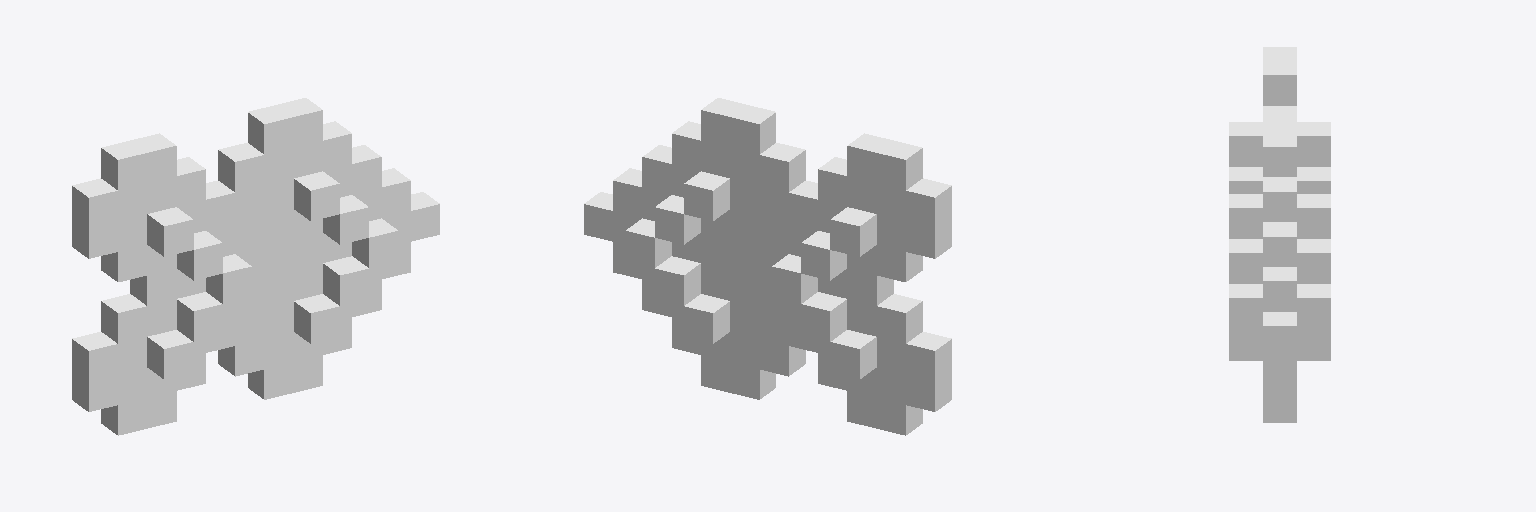
The model's file is Bonus_Speed.obj.
3 views of the same model, side by side, from view 1: azimuth 30°, elevation 25°; view 2: azimuth 150°, elevation 25°; view 3: azimuth 270°, elevation 25° (orthographic).
Bounding box in the file's own units: 12 × 9 × 3.